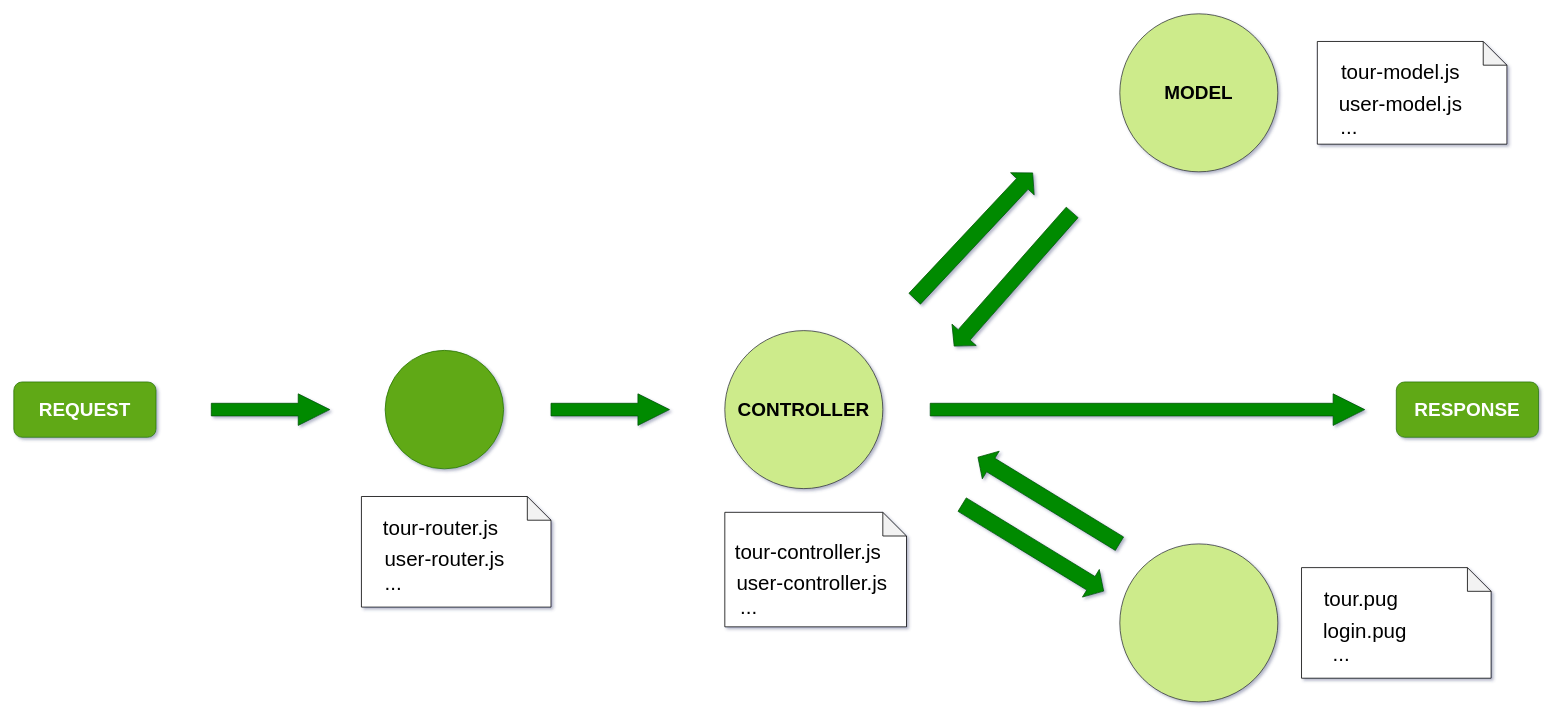
This 1557x720 diagram has some shape labels left out. Each missing label, with the box of its shape:
ROUTER: (384, 350, 504, 469)
VIEW: (1119, 543, 1278, 702)
